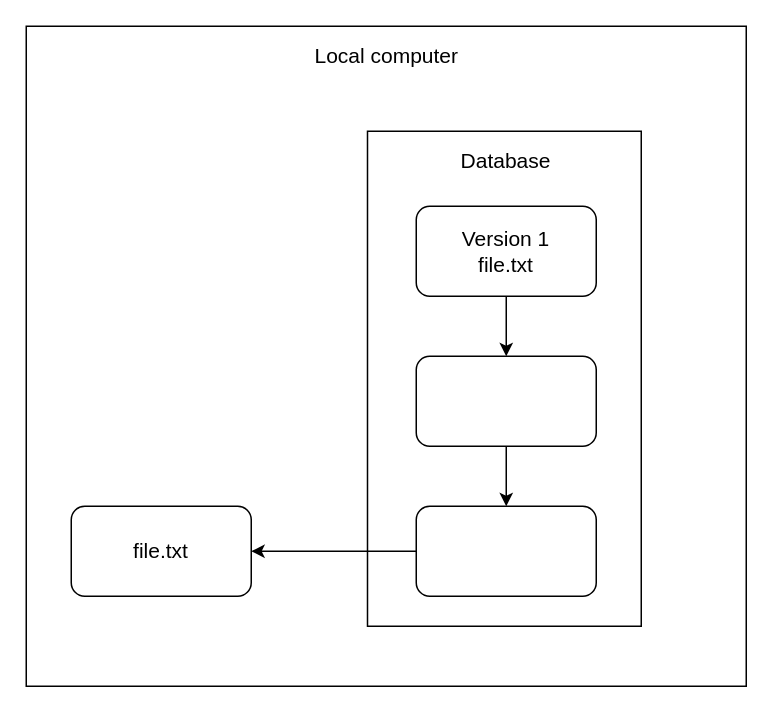
Image size: 773x726. Some labels were removed from this diagram. The centre of each missing label's shape, as x and y in pixels:
"Version 2 file.txt" belongs at (x=505, y=400).
"Version 3 file.txt" belongs at (x=505, y=550).
